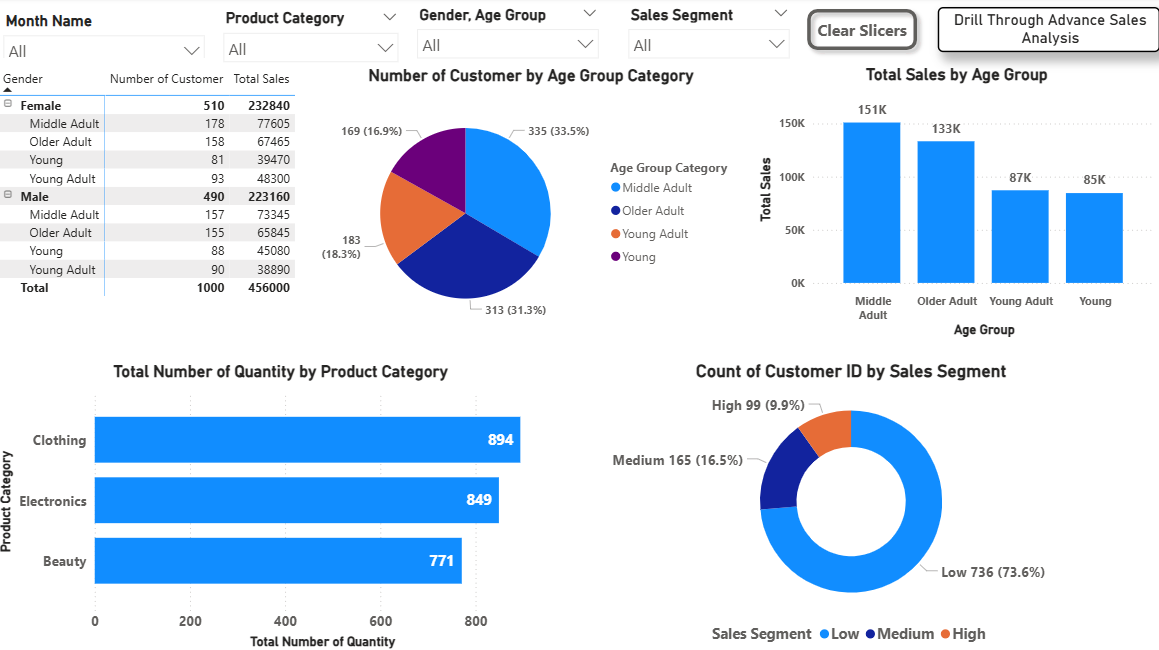

What the dashboard file says about the page in this screenshot:
{"tool":"powerbi","page":{"name":"Customer & Segmentation Analysis","canvas":[1280,720],"ordinal":1},"visuals":[{"type":"pieChart","fields":{"Category":["retail_sales_dataset.Age Group"],"Y":["CountNonNull(retail_sales_dataset.Customer ID)"]},"box":[354.5,75.9,471.5,303.5],"z":0},{"type":"pivotTable","fields":{"Rows":["retail_sales_dataset.Gender","retail_sales_dataset.Age Group"],"Columns":["retail_sales_dataset.Gender"],"Values":["CountNonNull(retail_sales_dataset.Customer ID)","retail_sales_dataset.Total Sales"]},"box":[0,74.6,339.6,304.8],"z":1000},{"type":"clusteredColumnChart","fields":{"Category":["retail_sales_dataset.Age Group"],"Y":["retail_sales_dataset.Total Sales"]},"box":[834.7,74.6,445.3,304.8],"z":2000},{"type":"donutChart","fields":{"Category":["retail_sales_dataset.Sales Segment"],"Y":["CountNonNull(retail_sales_dataset.Customer ID)"]},"box":[630,400,622.5,320],"z":3000},{"type":"clusteredBarChart","fields":{"Y":["Sum(retail_sales_dataset.Quantity)"],"Category":["retail_sales_dataset.Product Category"]},"box":[0,400.6,629.4,319.7],"z":4000},{"type":"slicer","fields":{"Values":["retail_sales_dataset.Gender","retail_sales_dataset.Age Group"]},"box":[454.2,4.1,219.6,63.1],"z":5000},{"type":"slicer","fields":{"Values":["retail_sales_dataset.Sales Segment"]},"box":[686.1,4.1,197.6,63.1],"z":6000},{"type":"slicer","fields":{"Values":["retail_sales_dataset.Product Category"]},"box":[241.5,8.2,212.7,63.1],"z":7000},{"type":"slicer","fields":{"Values":["Date Table.Month Name"]},"box":[0,11,241.5,56.3],"z":8000},{"type":"actionButton","title":"Drill Through Advance Sales Analysis","box":[1036,11,244.3,49.4],"z":9000},{"type":"actionButton","box":[883.7,4.1,138.6,63.1],"z":9001}]}

Visuals, with their boxes in screenshot pixels (x1, y1, x2, y2), scaled from the page's 1280x720 canvas onto the 1159x650 screenshot:
pieChart - retail_sales_dataset.Age Group x CountNonNull(retail_sales_dataset.Customer ID): detection(321, 69, 748, 343)
pivotTable - retail_sales_dataset.Gender x retail_sales_dataset.Age Group: detection(0, 67, 307, 343)
clusteredColumnChart - retail_sales_dataset.Age Group x retail_sales_dataset.Total Sales: detection(756, 67, 1158, 343)
donutChart - retail_sales_dataset.Sales Segment x CountNonNull(retail_sales_dataset.Customer ID): detection(570, 361, 1134, 649)
clusteredBarChart - Sum(retail_sales_dataset.Quantity) x retail_sales_dataset.Product Category: detection(0, 362, 570, 649)
slicer - retail_sales_dataset.Gender x retail_sales_dataset.Age Group: detection(411, 4, 610, 61)
slicer - retail_sales_dataset.Sales Segment: detection(621, 4, 800, 61)
slicer - retail_sales_dataset.Product Category: detection(219, 7, 411, 64)
slicer - Date Table.Month Name: detection(0, 10, 219, 61)
"Drill Through Advance Sales Analysis" actionButton: detection(938, 10, 1158, 55)
actionButton: detection(800, 4, 926, 61)
